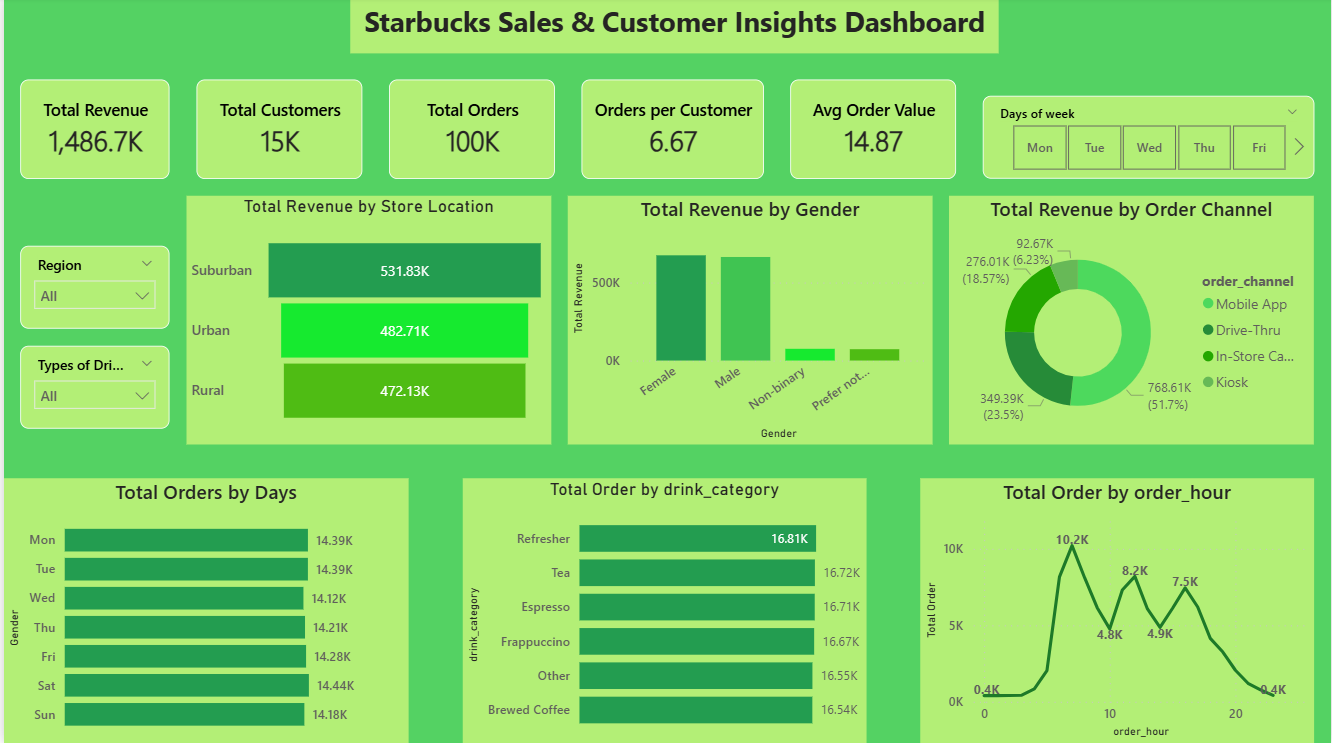

This screenshot's page, from the dashboard's own definition file:
{"tool":"powerbi","page":{"name":"Page 1","canvas":[1280,720],"ordinal":0},"visuals":[{"type":"card","title":"Total Revenue","fields":{"Values":["starbucks_cleaned.Total Revenue"]},"box":[16,79.1,144,96],"z":0},{"type":"card","title":"Total Customers","fields":{"Values":["starbucks_cleaned.Total Customers"]},"box":[185.6,79.1,160,96],"z":1000},{"type":"card","title":"Total Orders","fields":{"Values":["starbucks_cleaned.Total Order"]},"box":[371.2,79.1,160,96],"z":2000},{"type":"slicer","fields":{"Values":["starbucks_cleaned.drink_category"]},"box":[16,336,144,80],"z":3000},{"type":"columnChart","title":"Total Revenue by Gender","fields":{"Category":["starbucks_cleaned.customer_gender"],"Y":["starbucks_cleaned.Total Revenue"]},"box":[544,192,352,240],"z":4000},{"type":"card","title":"Orders per Customer","fields":{"Values":["starbucks_cleaned.Orders per Customer"]},"box":[556.8,79.1,176,96],"z":5000},{"type":"card","title":"Avg Order Value","fields":{"Values":["starbucks_cleaned.Avg Order Value"]},"box":[758.4,79.1,160,96],"z":6000},{"type":"slicer","fields":{"Values":["starbucks_cleaned.region"]},"box":[16,240,144,80],"z":7000},{"type":"slicer","fields":{"Values":["starbucks_cleaned.day_of_week"]},"box":[944,95.1,320,80],"z":8000},{"type":"donutChart","title":"Total Revenue by Order Channel","fields":{"Y":["starbucks_cleaned.Total Revenue"],"Category":["starbucks_cleaned.order_channel"]},"box":[911.8,191.8,352.2,240],"z":9000},{"type":"barChart","title":"Total Orders by Days","fields":{"Y":["starbucks_cleaned.Total Order"],"Category":["starbucks_cleaned.day_of_week"]},"box":[0,464.3,390,255.7],"z":10000},{"type":"funnel","title":"Total Revenue by Store Location","fields":{"Category":["starbucks_cleaned.store_location_type"],"Y":["starbucks_cleaned.Total Revenue"]},"box":[176,192,352,240],"z":11000},{"type":"clusteredBarChart","fields":{"Category":["starbucks_cleaned.drink_category"],"Y":["starbucks_cleaned.Total Order"]},"box":[442.2,464.3,389.5,255.7],"z":12000},{"type":"textbox","box":[334.1,0,625.9,54.3],"z":13000},{"type":"lineChart","fields":{"Category":["starbucks_cleaned.order_hour"],"Y":["starbucks_cleaned.Total Order"]},"box":[884,464.3,379.9,255.7],"z":14000}]}

Visuals, with their boxes in screenshot pixels (x1, y1, x2, y2), scaled from the page's 1280x720 canvas onto the 1332x743 screenshot:
"Total Revenue" card: bbox(17, 82, 166, 181)
"Total Customers" card: bbox(193, 82, 360, 181)
"Total Orders" card: bbox(386, 82, 553, 181)
slicer - starbucks_cleaned.drink_category: bbox(17, 347, 166, 429)
"Total Revenue by Gender" columnChart: bbox(566, 198, 932, 446)
"Orders per Customer" card: bbox(579, 82, 763, 181)
"Avg Order Value" card: bbox(789, 82, 956, 181)
slicer - starbucks_cleaned.region: bbox(17, 248, 166, 330)
slicer - starbucks_cleaned.day_of_week: bbox(982, 98, 1315, 181)
"Total Revenue by Order Channel" donutChart: bbox(949, 198, 1315, 446)
"Total Orders by Days" barChart: bbox(0, 479, 406, 742)
"Total Revenue by Store Location" funnel: bbox(183, 198, 549, 446)
clusteredBarChart - starbucks_cleaned.drink_category x starbucks_cleaned.Total Order: bbox(460, 479, 865, 742)
textbox: bbox(348, 0, 999, 56)
lineChart - starbucks_cleaned.order_hour x starbucks_cleaned.Total Order: bbox(920, 479, 1315, 742)
